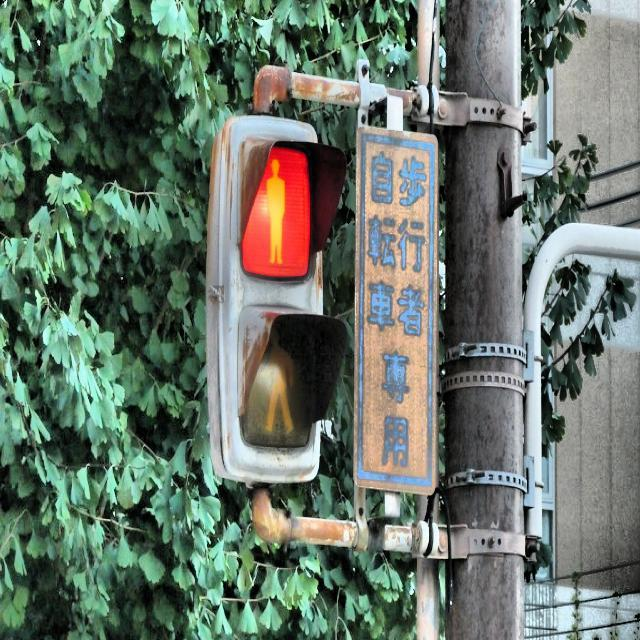red_light: (264, 153, 288, 269)
